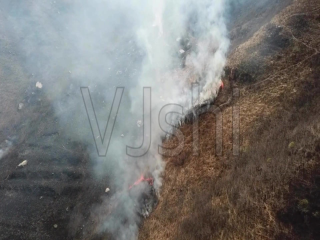smoke: (84, 91, 172, 232), (143, 4, 231, 123)
